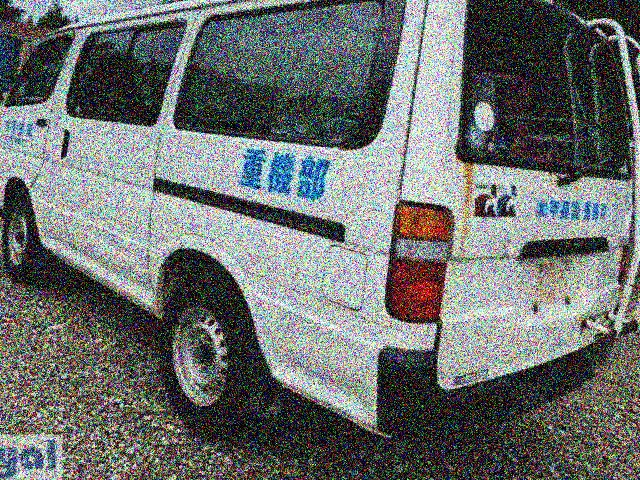van: (0, 0, 640, 432)
